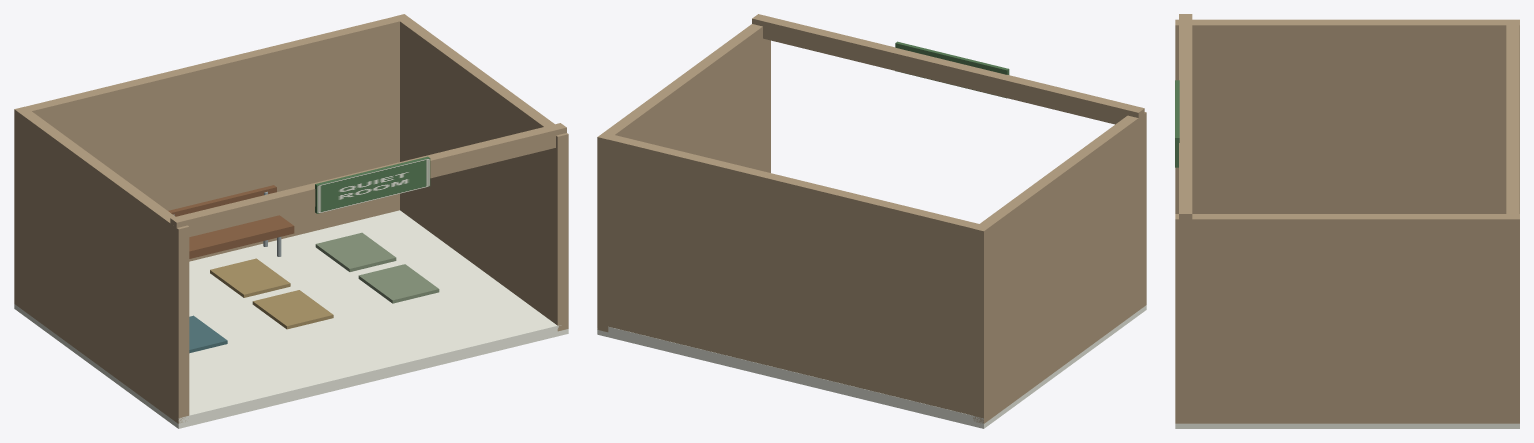
The model's file is scendance-plan-multi-faith-room.glb.
The picture shows the model from 3 angles, left to right: view 1: azimuth 30°, elevation 25°; view 2: azimuth 150°, elevation 25°; view 3: azimuth 270°, elevation 25°; orthographic projection. The views are drawn at different scales.
Bounding box in the file's own units: 5.35 × 2.74 × 3.9.
9 materials, 1 textured.
